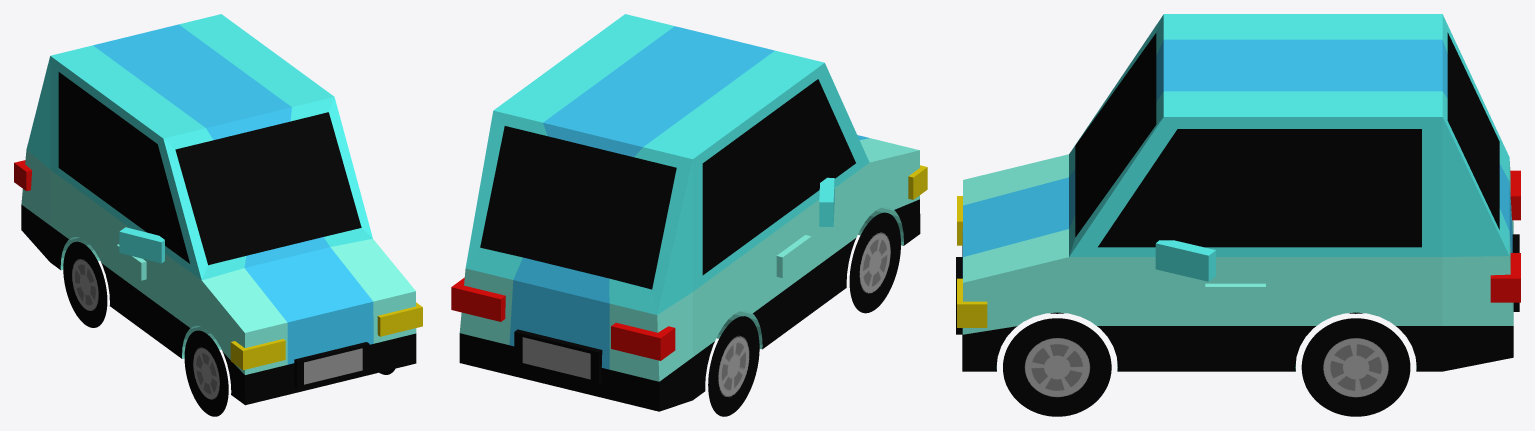
The model's file is Mobil_5_Biru_D.fbx.
3 renders of one model, left to right at view 1: azimuth 30°, elevation 25°; view 2: azimuth 150°, elevation 25°; view 3: azimuth 270°, elevation 25°, orthographic. The views are drawn at different scales.
Parts seen in each view (by area): view 1: Mobil5; view 2: Mobil5; view 3: Mobil5.
Boxes of the visible parts, x1,y1,x2,y2 form: Mobil5: (14,14,422,416); Mobil5: (451,14,927,416); Mobil5: (956,14,1520,416).
Bounding box in the file's own units: 522 × 546 × 931.
Materials: 5 (3 with a texture image).
